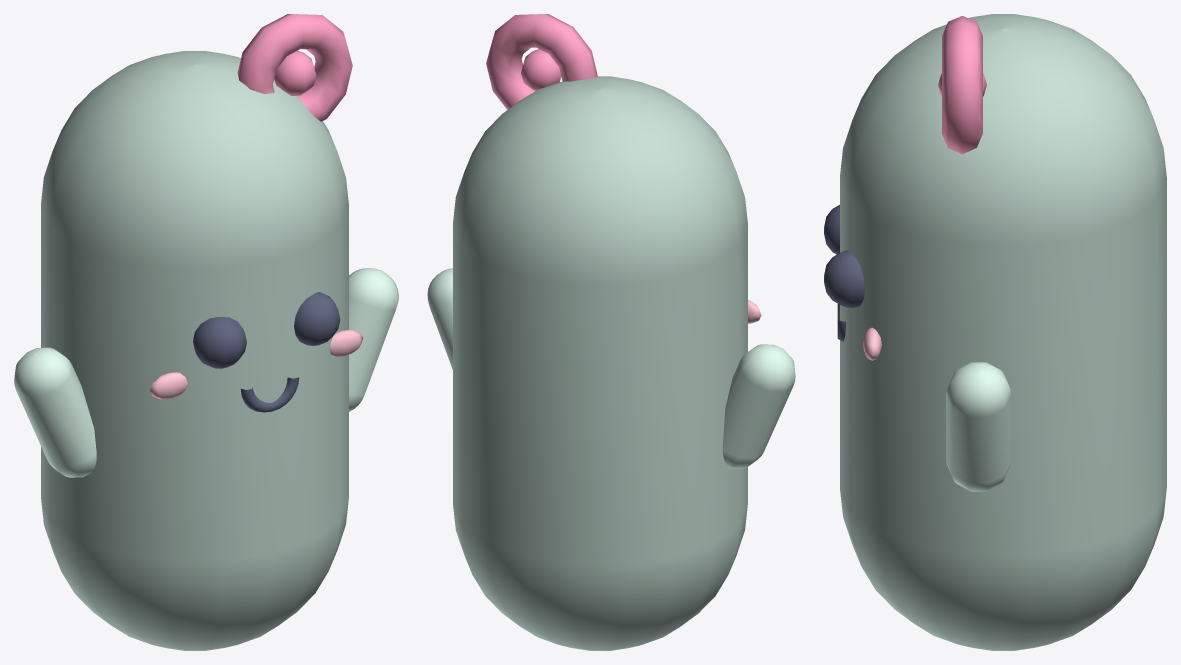
The model's file is wargab1.glb.
3 renders of one model, left to right at view 1: azimuth 30°, elevation 25°; view 2: azimuth 150°, elevation 25°; view 3: azimuth 270°, elevation 25°, orthographic. The views are drawn at different scales.
Visible parts, largest first — view 1: wargab1; view 2: wargab1; view 3: wargab1.
Part boxes in pixels (left/top/right/bottom): wargab1: left=14, top=14, right=398, bottom=650; wargab1: left=427, top=14, right=795, bottom=650; wargab1: left=824, top=14, right=1166, bottom=650.
Size of the model in its own units: 0.5634 by 0.885 by 0.4192.
